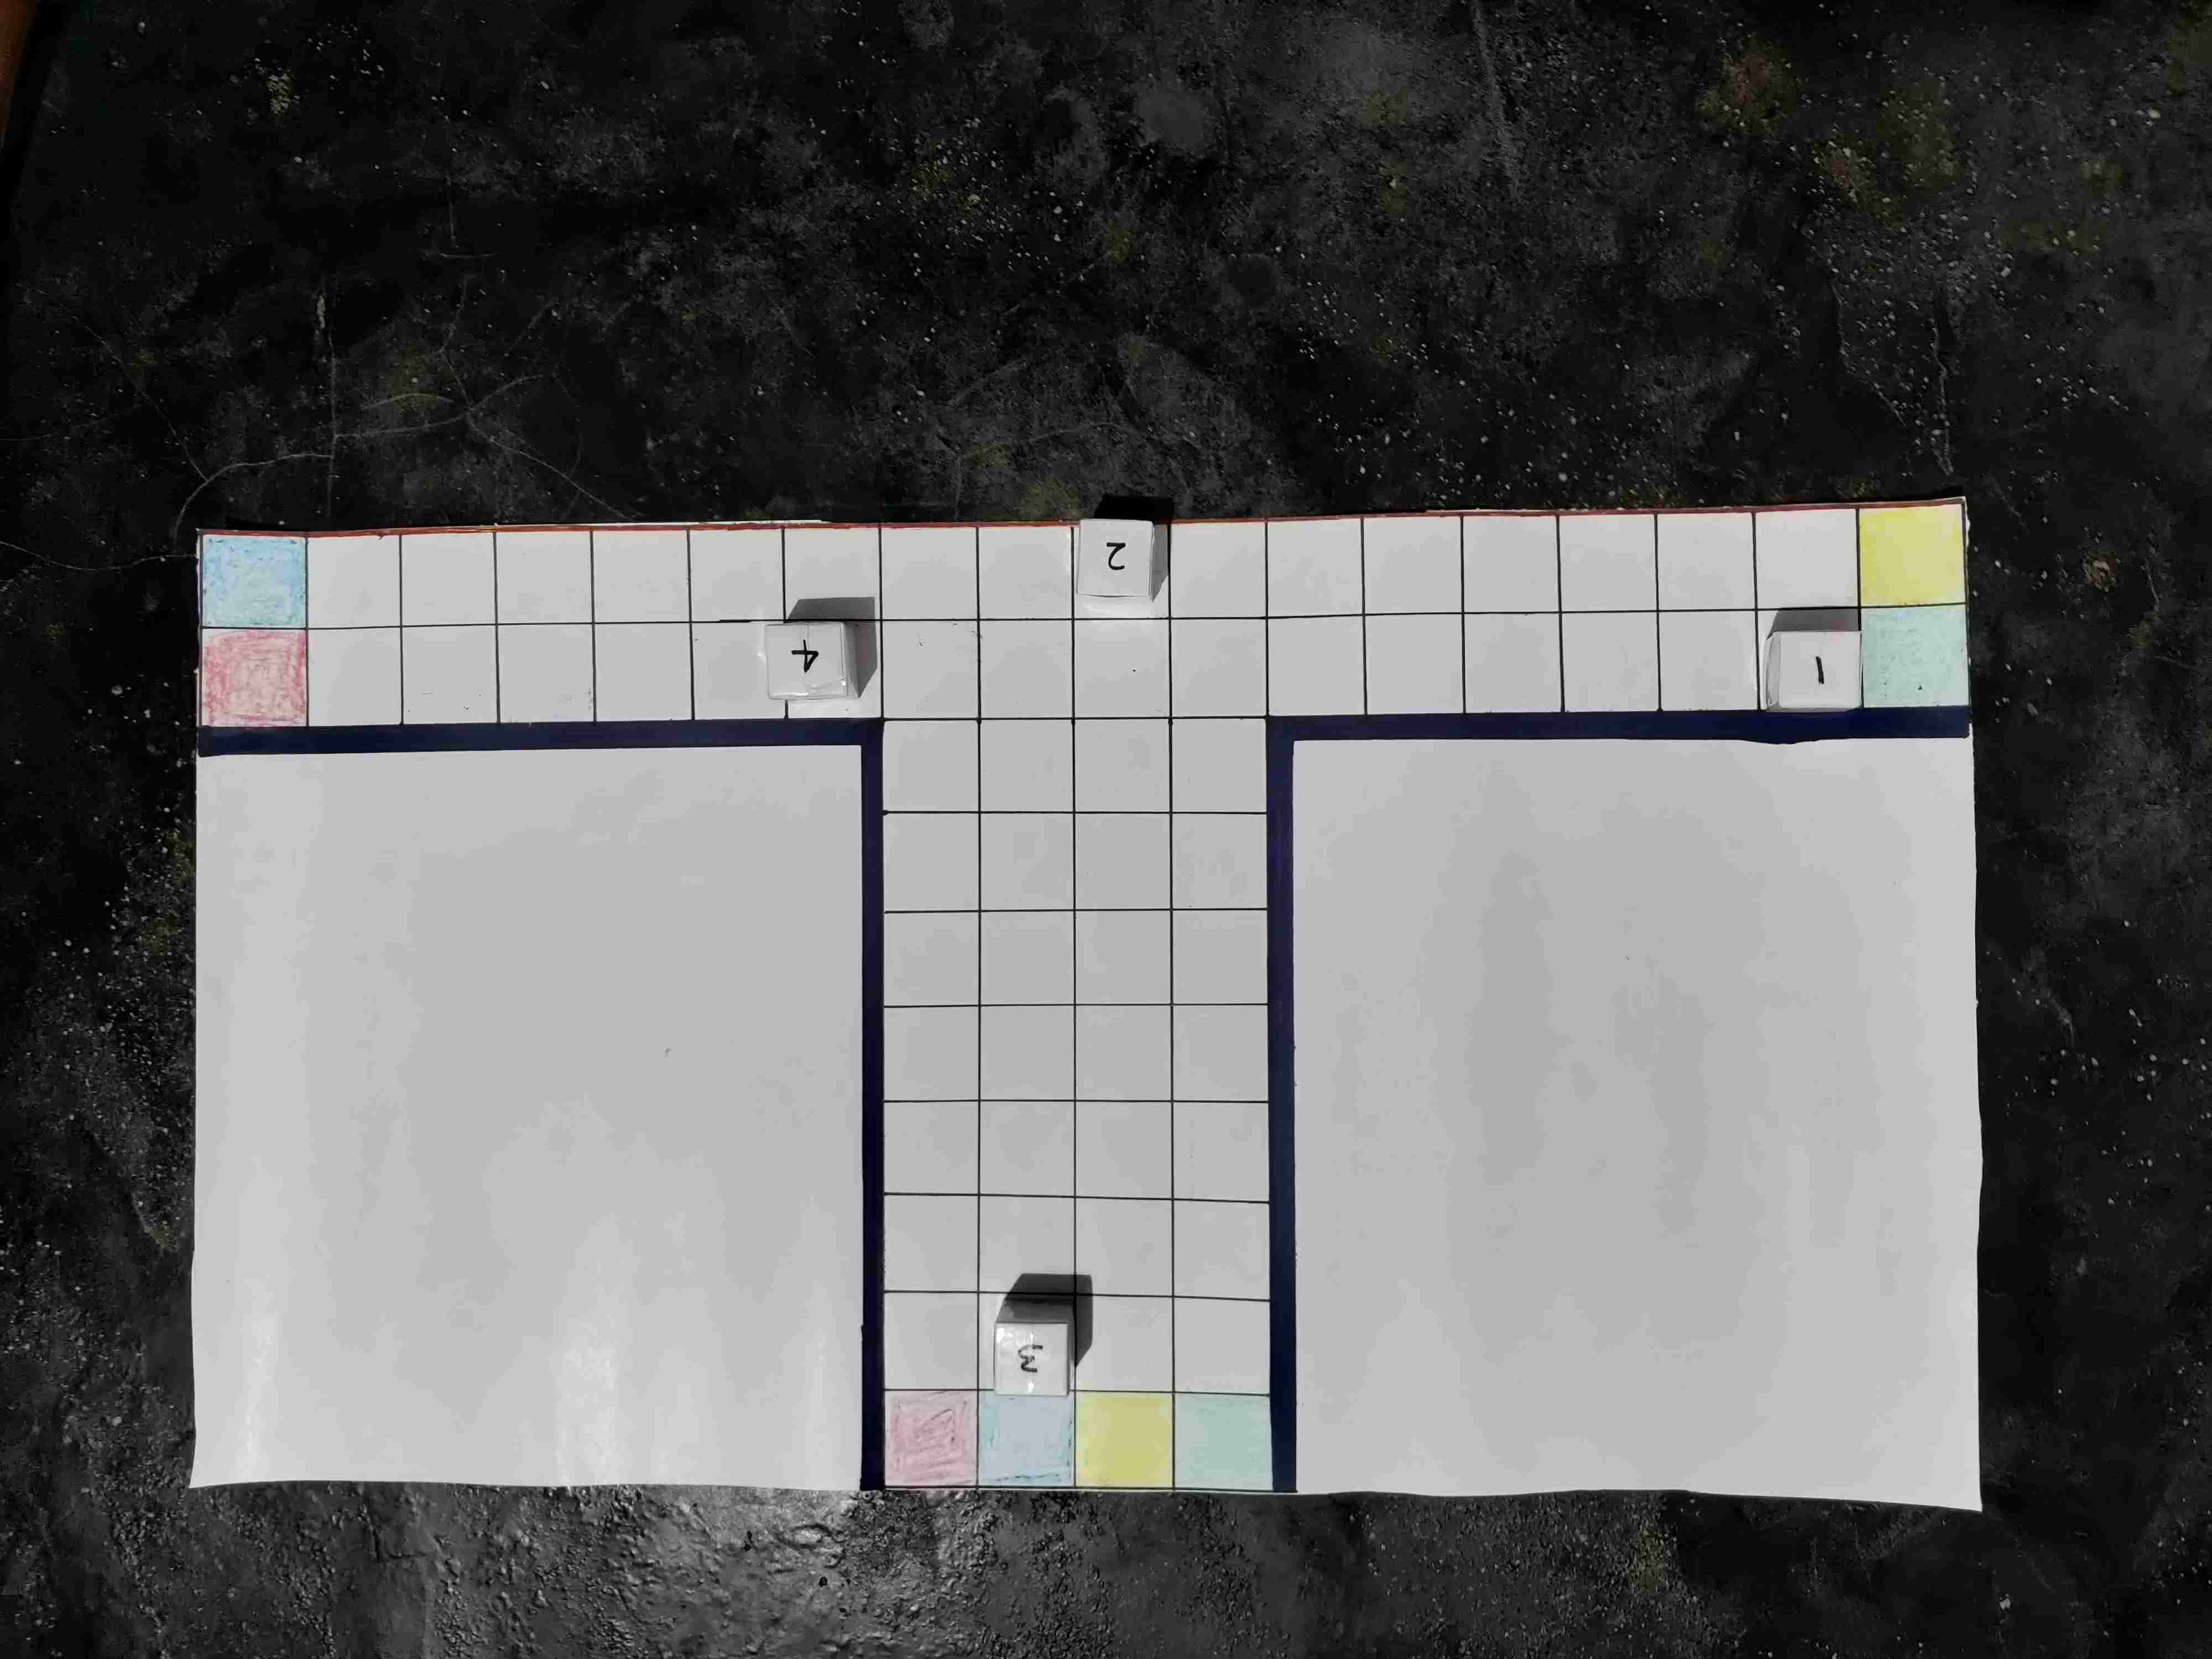arena: (195, 502, 1968, 1490)
bot: (1778, 634, 1862, 709), (995, 1321, 1075, 1398), (1080, 519, 1155, 594), (766, 627, 843, 695)
